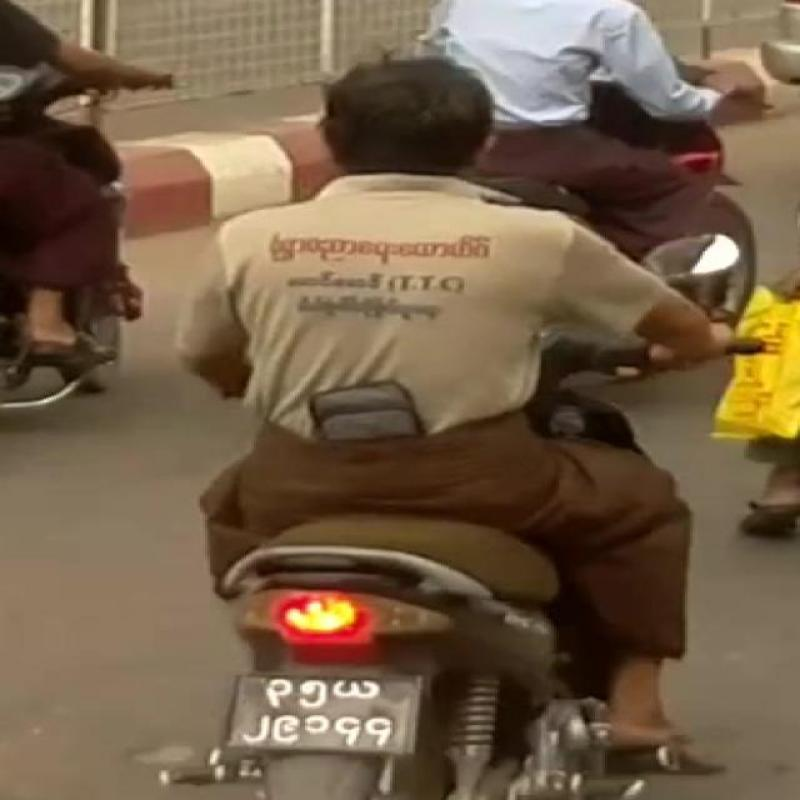nohelmet: (259, 36, 557, 174)
